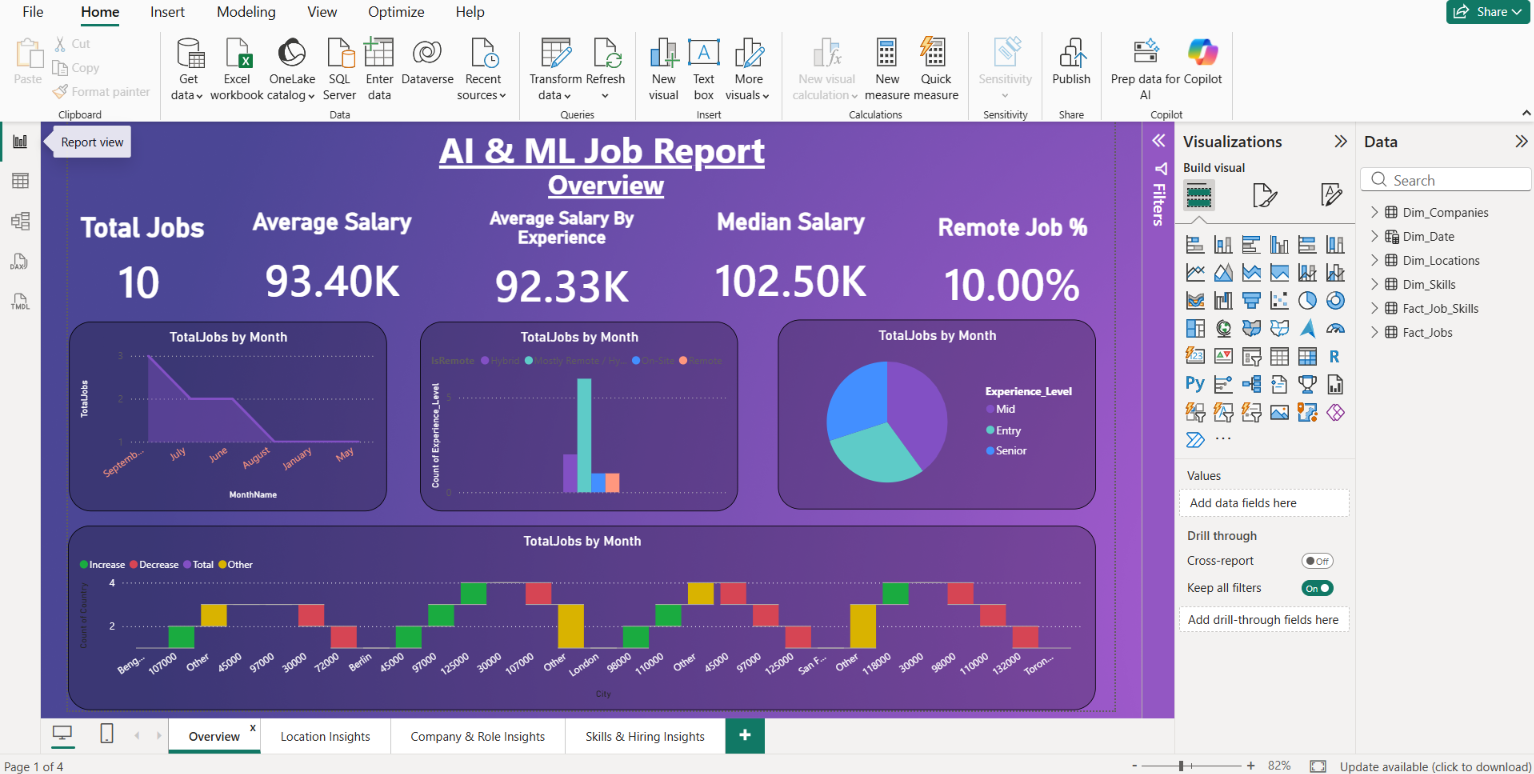

This screenshot's page, from the dashboard's own definition file:
{"tool":"powerbi","page":{"name":"Overview","canvas":[1280,720],"ordinal":0},"visuals":[{"type":"textbox","box":[449.4,0,418.5,70.4],"z":0},{"type":"cardVisual","title":"Total Jobs","fields":{"Data":["Fact_Jobs.TotalJobs"]},"box":[0,110.1,182.2,127.2],"z":1000},{"type":"cardVisual","title":"Average Salary","fields":{"Data":["Fact_Jobs.AvgSalary"]},"box":[214.8,104.9,216,137],"z":2000},{"type":"cardVisual","title":"Median Salary","fields":{"Data":["Fact_Jobs.MedianSalary"]},"box":[759.3,104.9,249.4,137],"z":3000},{"type":"cardVisual","title":"Remote Job %","fields":{"Data":["Fact_Jobs.RemoteJob%"]},"box":[1030.9,111.1,249.4,135.8],"z":4000},{"type":"cardVisual","title":"Average Salary By Experience","fields":{"Data":["Fact_Jobs.AvgSalaryByExperience"]},"box":[479,104.9,249.4,137],"z":5000},{"type":"lineChart","title":"TotalJobs by Month","fields":{"Category":["Dim_Date.MonthName"],"Y":["Fact_Jobs.TotalJobs"]},"box":[1.2,244.4,388.9,232.1],"z":6000},{"type":"clusteredColumnChart","title":"TotalJobs by Month","fields":{"Y":["CountNonNull(Fact_Jobs.Experience_Level)"],"Series":["Fact_Jobs.IsRemote"]},"box":[430.9,244.4,388.9,232.1],"z":7000},{"type":"pieChart","title":"TotalJobs by Month","fields":{"Category":["Fact_Jobs.Experience_Level"],"Y":["Fact_Jobs.TotalJobs"]},"box":[867.9,242,388.9,232.1],"z":8000},{"type":"waterfallChart","title":"TotalJobs by Month","fields":{"Category":["Dim_Locations.City"],"Breakdown":["Fact_Jobs.Salary_USD"],"Y":["CountNonNull(Dim_Locations.Country)"]},"box":[0,493.8,1256.8,225.9],"z":9000},{"type":"textbox","box":[449.4,50.6,418.5,60.5],"z":10000}]}

Visuals, with their boxes on the page's 1280x720 design canvas (x1, y1, x2, y2). These are canvas units, not pixel positions in the 1534x774 screenshot, which may show the page scaled, cropped or inside an application window:
textbox: region(449, 0, 868, 70)
"Total Jobs" cardVisual: region(0, 110, 182, 237)
"Average Salary" cardVisual: region(215, 105, 431, 242)
"Median Salary" cardVisual: region(759, 105, 1009, 242)
"Remote Job %" cardVisual: region(1031, 111, 1280, 247)
"Average Salary By Experience" cardVisual: region(479, 105, 728, 242)
"TotalJobs by Month" lineChart: region(1, 244, 390, 476)
"TotalJobs by Month" clusteredColumnChart: region(431, 244, 820, 476)
"TotalJobs by Month" pieChart: region(868, 242, 1257, 474)
"TotalJobs by Month" waterfallChart: region(0, 494, 1257, 720)
textbox: region(449, 51, 868, 111)
